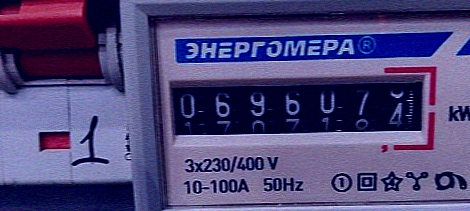0: (175, 91, 196, 122), (316, 86, 336, 117)
4: (384, 101, 403, 130)
6: (209, 90, 232, 120), (281, 89, 301, 117)
7: (351, 87, 369, 117)
9: (246, 90, 265, 120)
screen: (151, 61, 437, 155)
